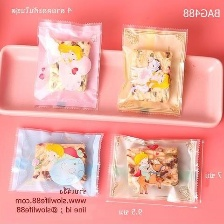snack: (3, 121, 109, 201), (113, 19, 195, 122), (103, 127, 207, 207), (28, 16, 109, 115)
